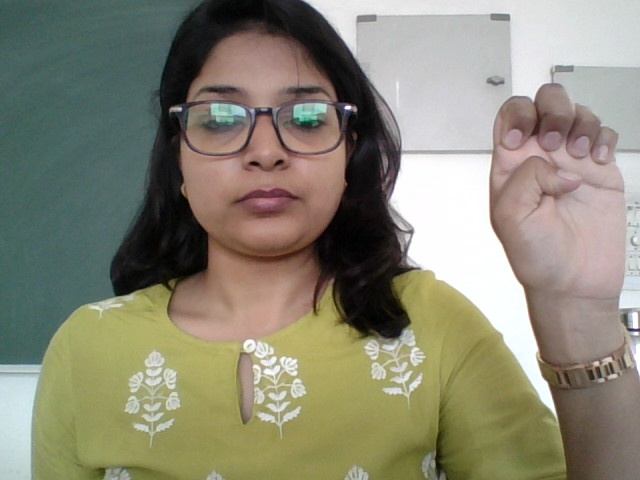E: (474, 75, 636, 324)
